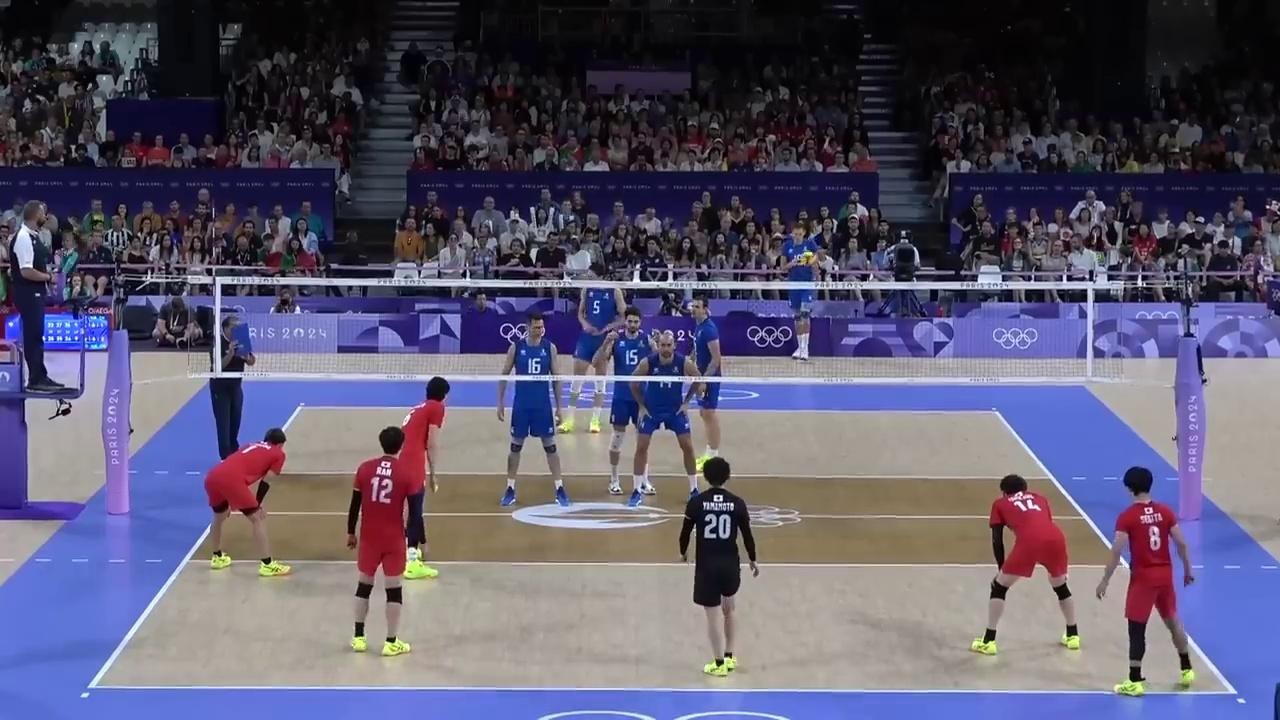ball: (800, 252, 812, 267)
